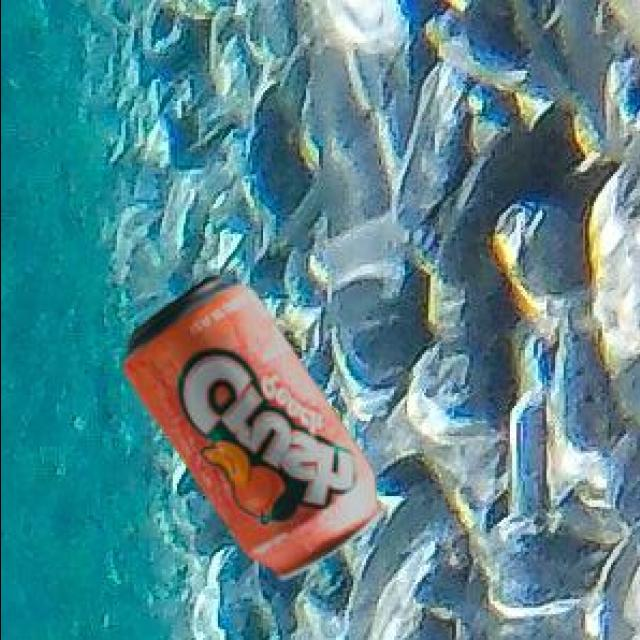logam: (119, 272, 379, 577)
